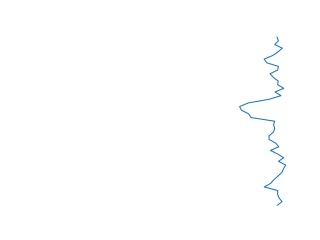interdistributaryEstuary: (236, 37, 291, 207)
